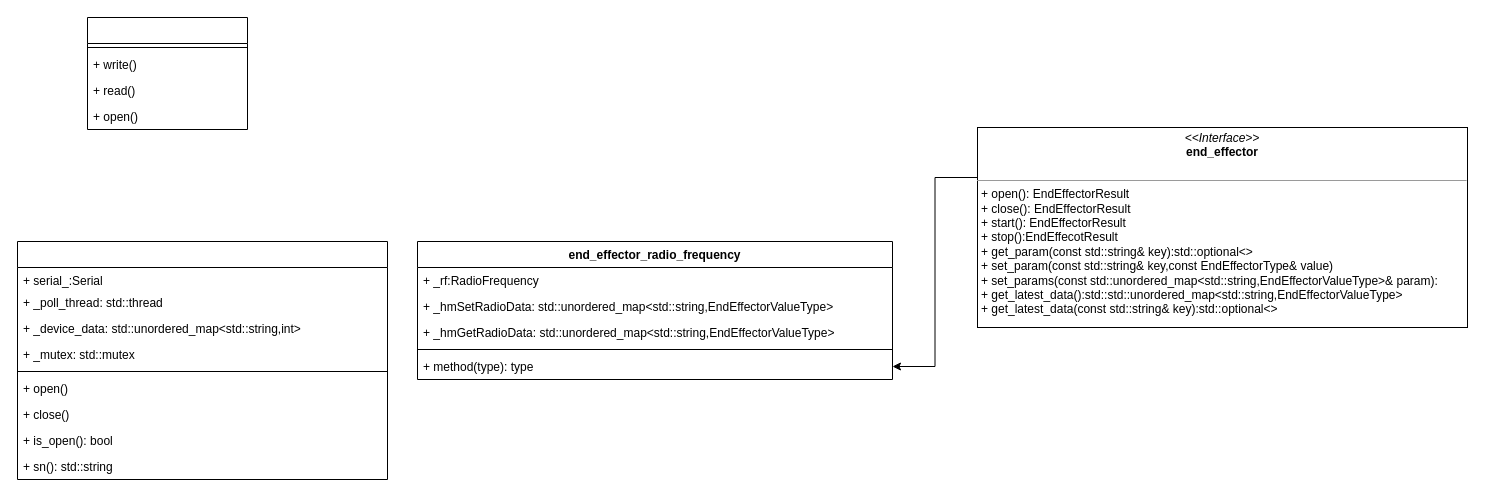
This 1485x500 diagram has some shape labels left out. The shapes that lost their labels are listed below. From the top down, each one's box as (x1, y1, x2, y2) in pixels, then its label:
(86, 16, 248, 130): serial
(16, 240, 388, 480): RadioFrequency
